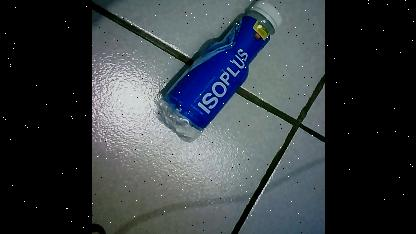Plastic Bottle: (152, 0, 284, 142)
